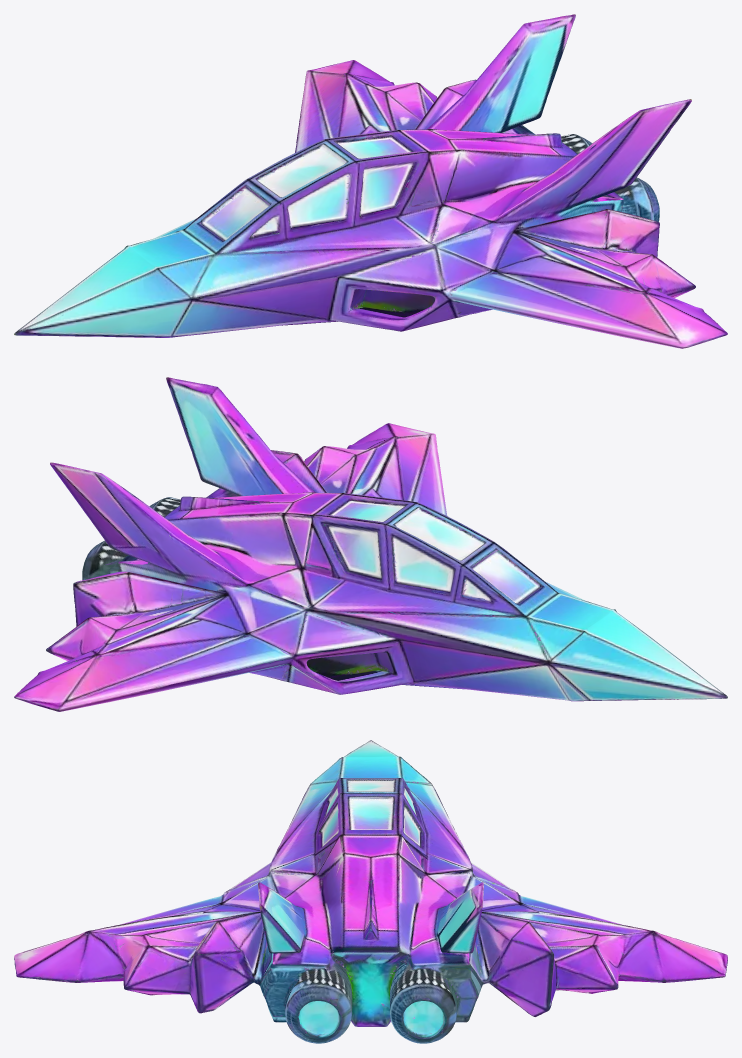
The model's file is model.opt.glb.
The picture shows the model from 3 angles, top to bottom: view 1: azimuth 30°, elevation 25°; view 2: azimuth 150°, elevation 25°; view 3: azimuth 270°, elevation 25°; orthographic projection. The views are drawn at different scales.
Visible parts, largest first — view 1: Mesh_0; view 2: Mesh_0; view 3: Mesh_0.
Boxes of the visible parts, box(x1,y1,x2,y2) form: Mesh_0: box(14, 14, 727, 348); Mesh_0: box(14, 377, 727, 711); Mesh_0: box(14, 740, 727, 1043).
Bounding box in the file's own units: 1.8 × 0.5283 × 1.9.
1 material, 1 textured.
